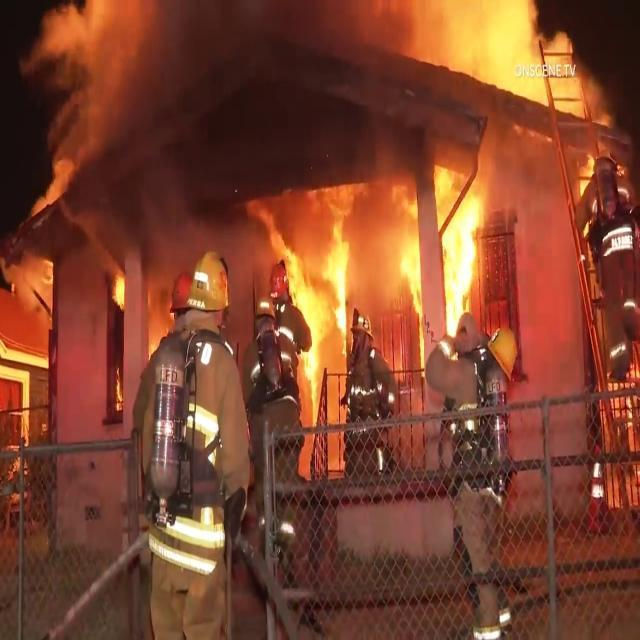Fire: (273, 200, 351, 398), (444, 155, 490, 323), (396, 208, 413, 288), (113, 270, 136, 323)
Smoke: (120, 0, 423, 180)
